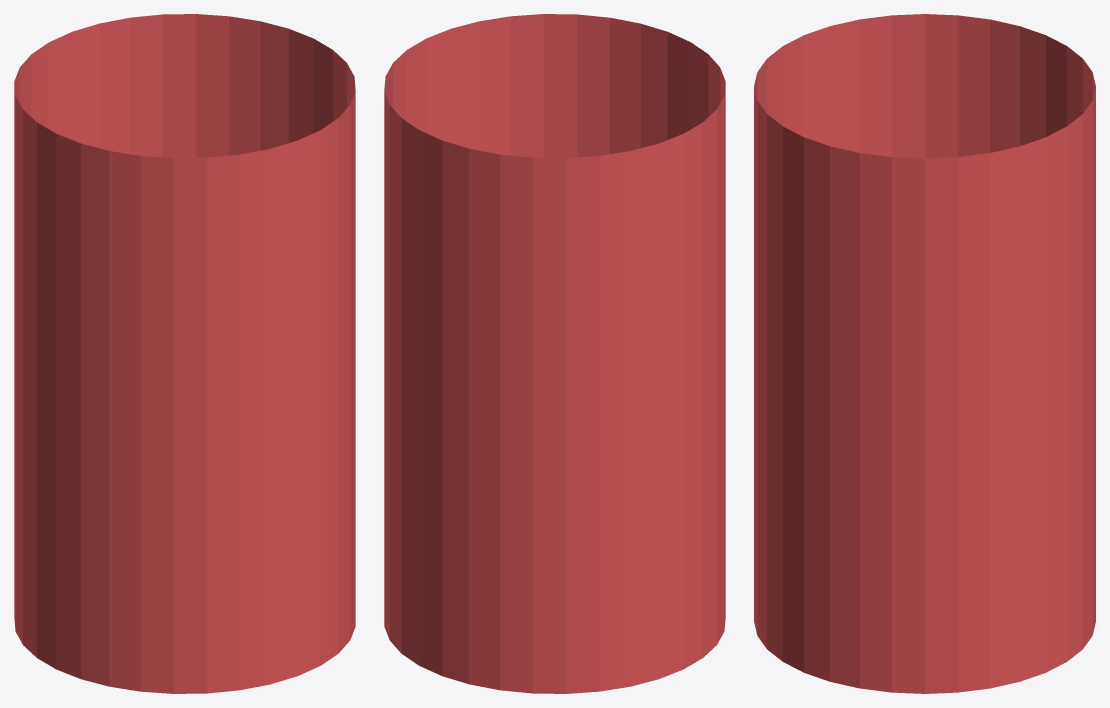
3 views of the same model, side by side, from view 1: azimuth 30°, elevation 25°; view 2: azimuth 150°, elevation 25°; view 3: azimuth 270°, elevation 25° (orthographic).
Visible parts, largest first — view 1: Cylinder; view 2: Cylinder; view 3: Cylinder.
Boxes of the visible parts, x1=… form: Cylinder: x1=14, y1=14, x2=355, y2=693; Cylinder: x1=384, y1=14, x2=725, y2=693; Cylinder: x1=754, y1=14, x2=1095, y2=693.
Bounding box in the file's own units: 200 × 346 × 200.
